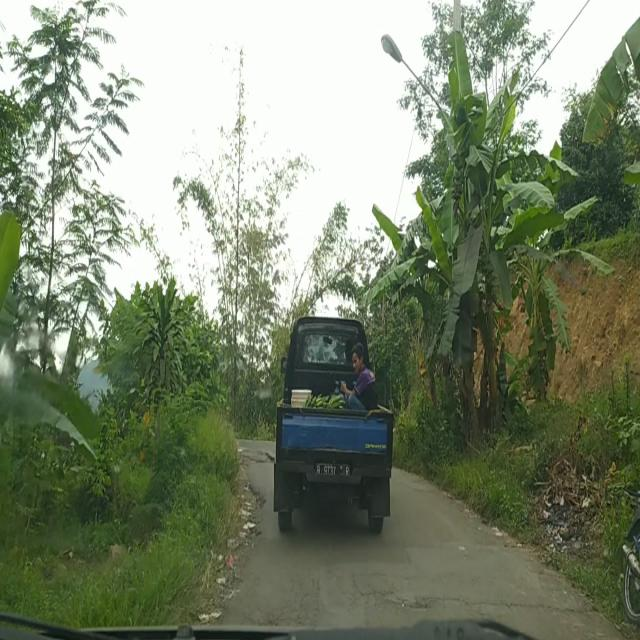Sewer Cover: (388, 588, 578, 616)
